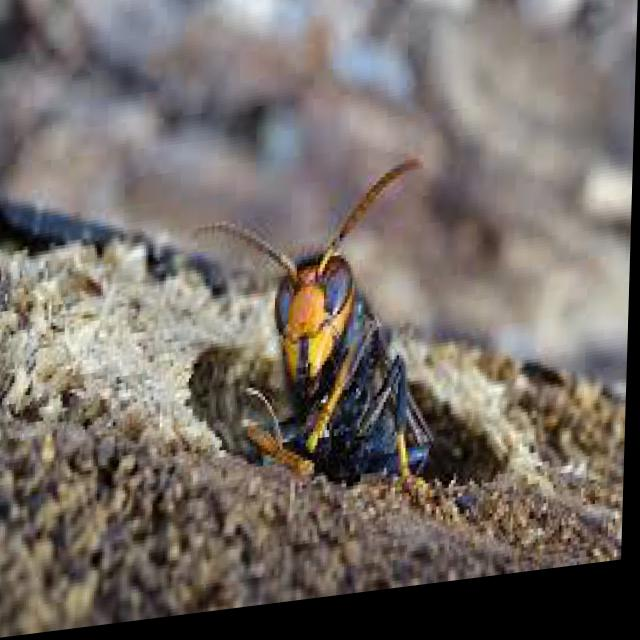Vespa Velutina: (173, 148, 471, 554)
